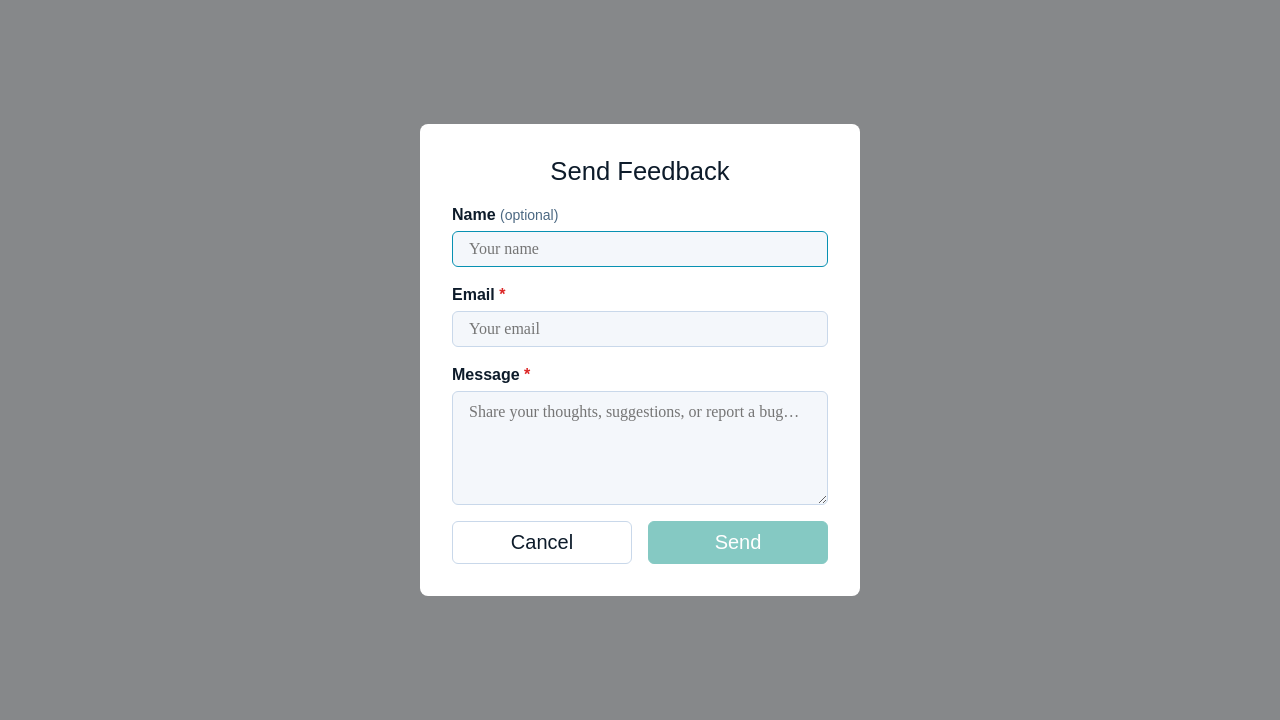
Scenario: FeedbackModal › shows error message on failed submission
The image size is (1280, 720).
Type "a@b.com" into the field labelled "Email *" at {"x": 640, "y": 330}, box left=452, top=312, right=828, bottom=348
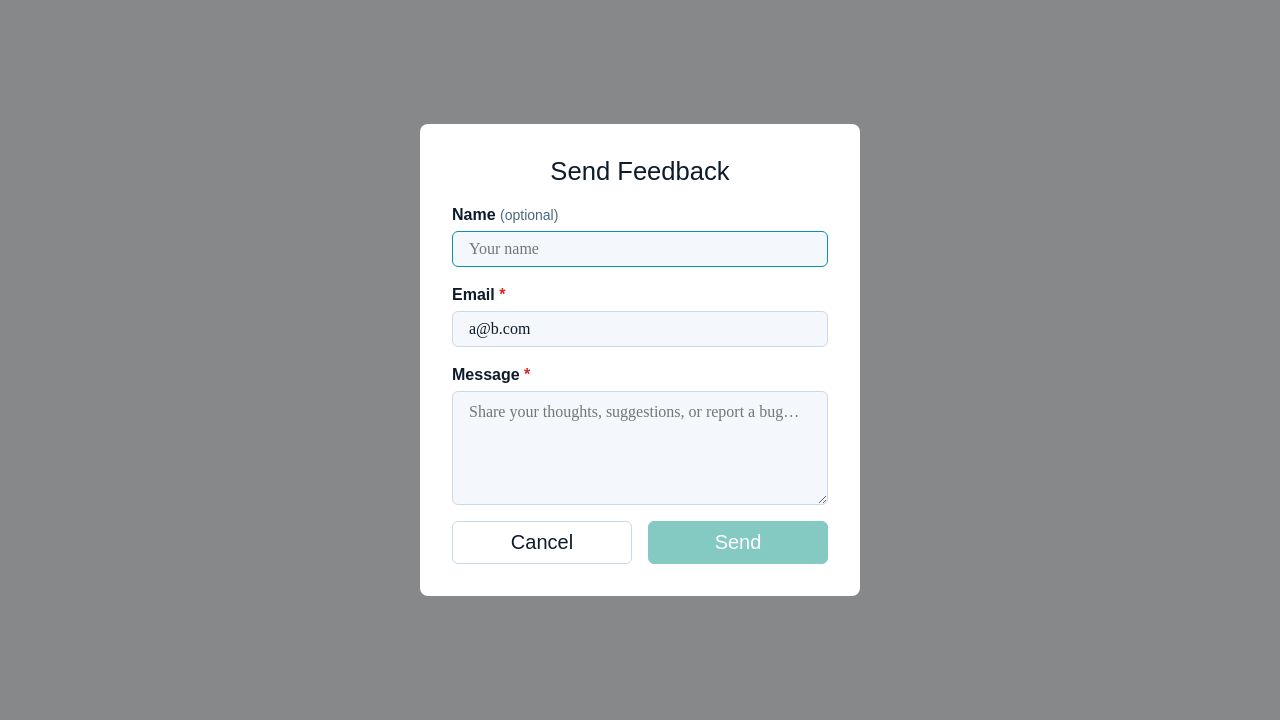
Type "test" into the text box labelled "Message *" at {"x": 640, "y": 448}, box left=452, top=392, right=828, bottom=506
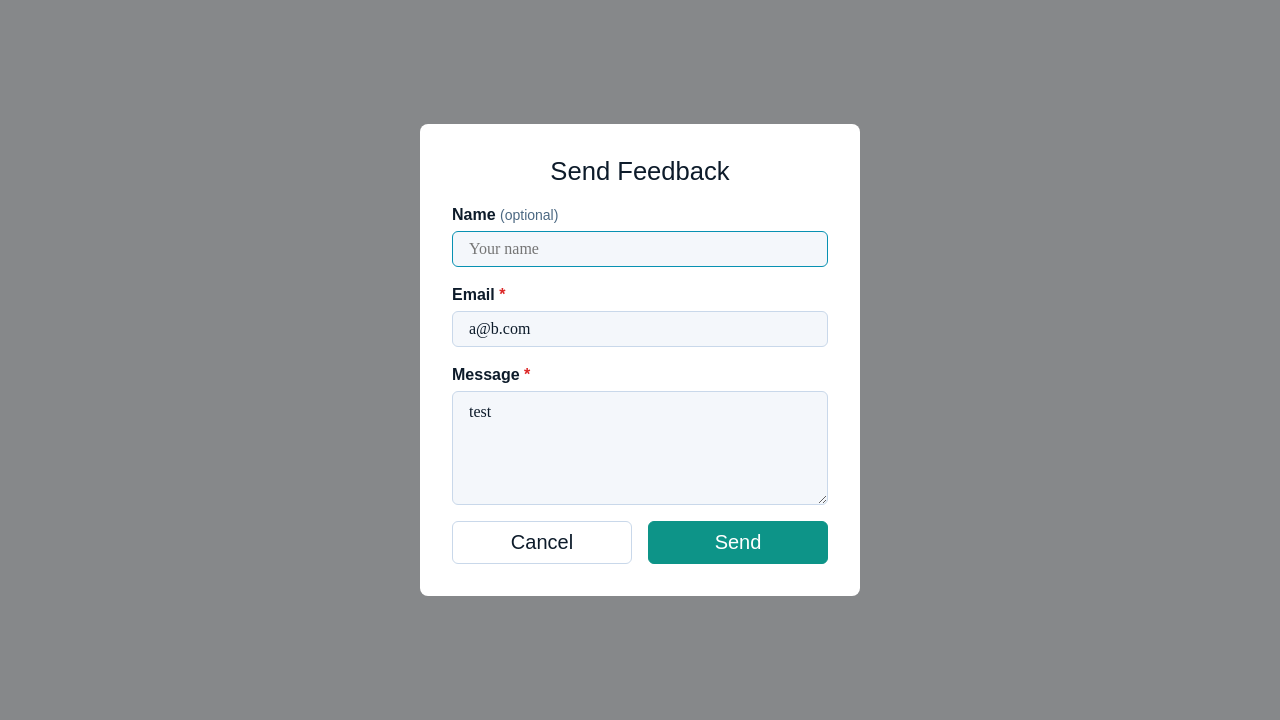
Click the button "Send" at {"x": 738, "y": 543}, box left=648, top=522, right=828, bottom=564
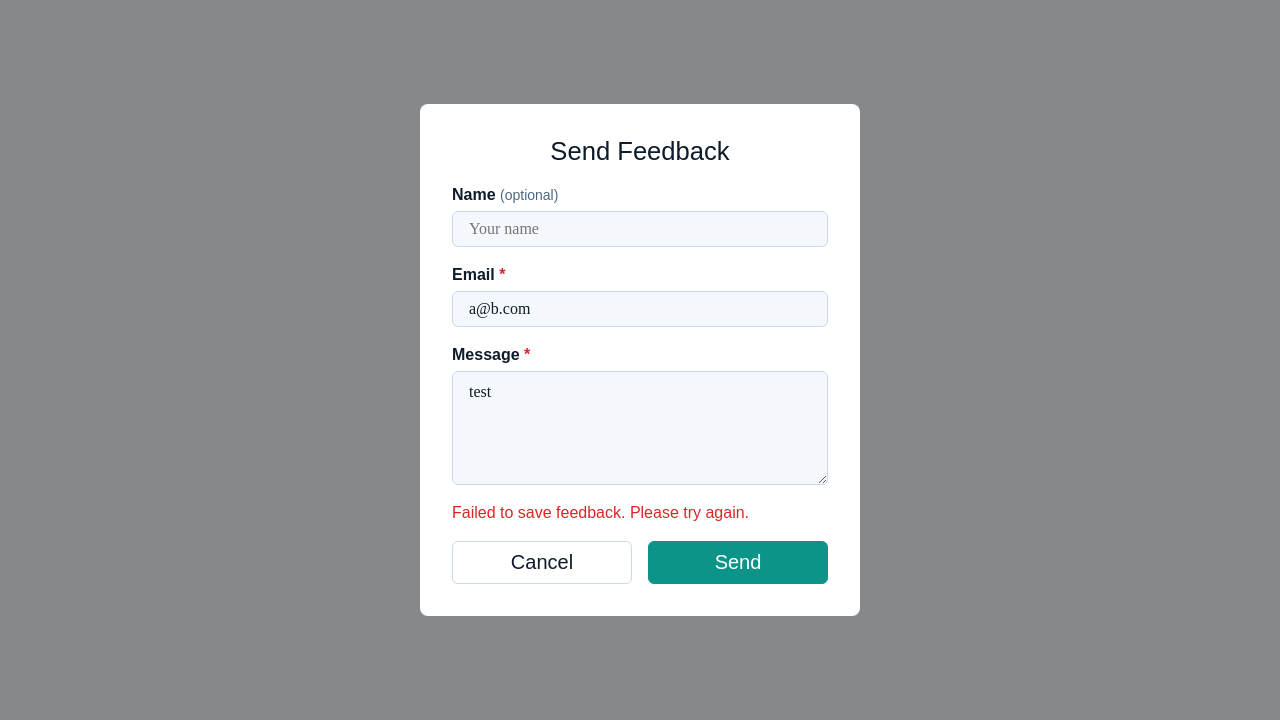
Result: the text "Failed to save feedback. Please try again." is shown at left=452, top=504, right=749, bottom=522
